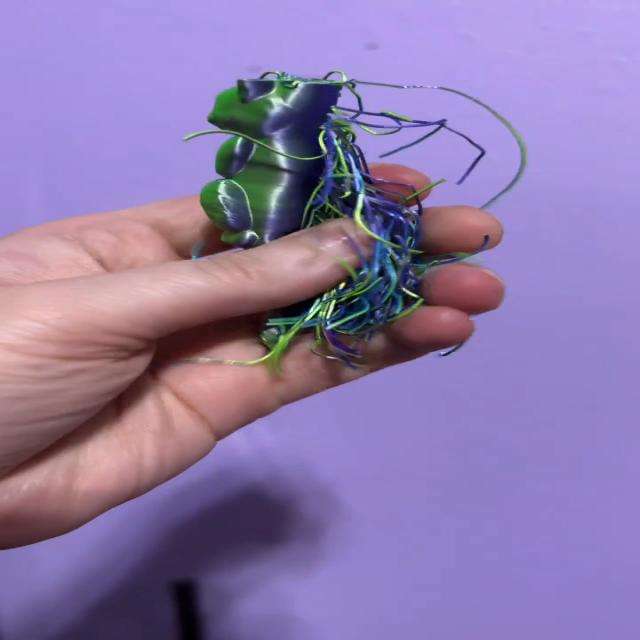spaghetti: (253, 131, 438, 364)
